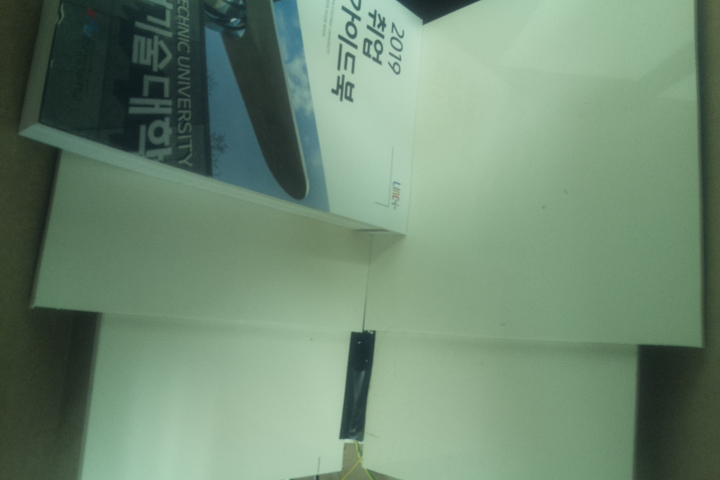book: (13, 1, 425, 240)
